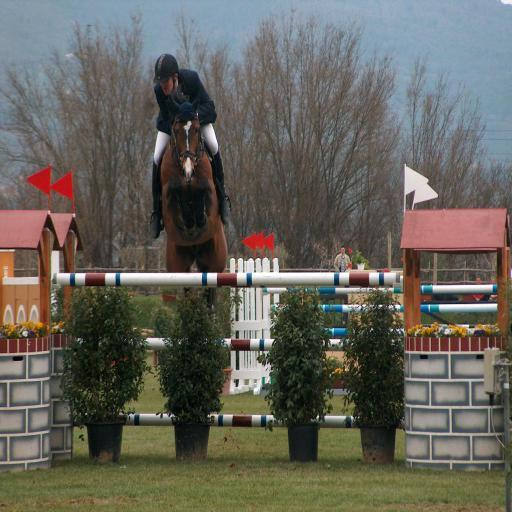horse: (156, 96, 230, 292)
